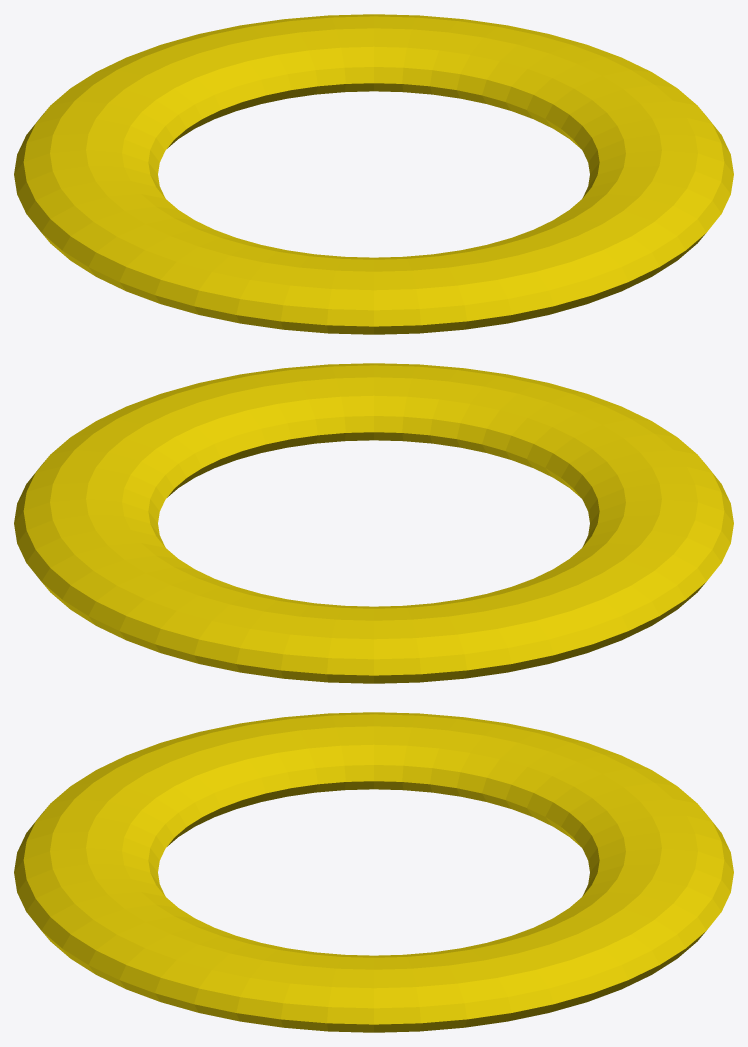
File: fire.fbx
3 views of the same model, one above another, from view 1: azimuth 30°, elevation 25°; view 2: azimuth 150°, elevation 25°; view 3: azimuth 270°, elevation 25° (orthographic).
Parts seen in each view (by area): view 1: Torus; view 2: Torus; view 3: Torus.
Boxes of the visible parts, bbox=[...] form: Torus: bbox=[14, 14, 733, 334]; Torus: bbox=[14, 363, 733, 683]; Torus: bbox=[14, 712, 733, 1032].
Size of the model in its own units: 2 by 0.15 by 2.
